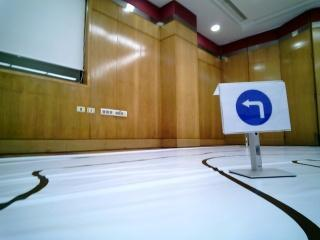left: (222, 91, 286, 129)
